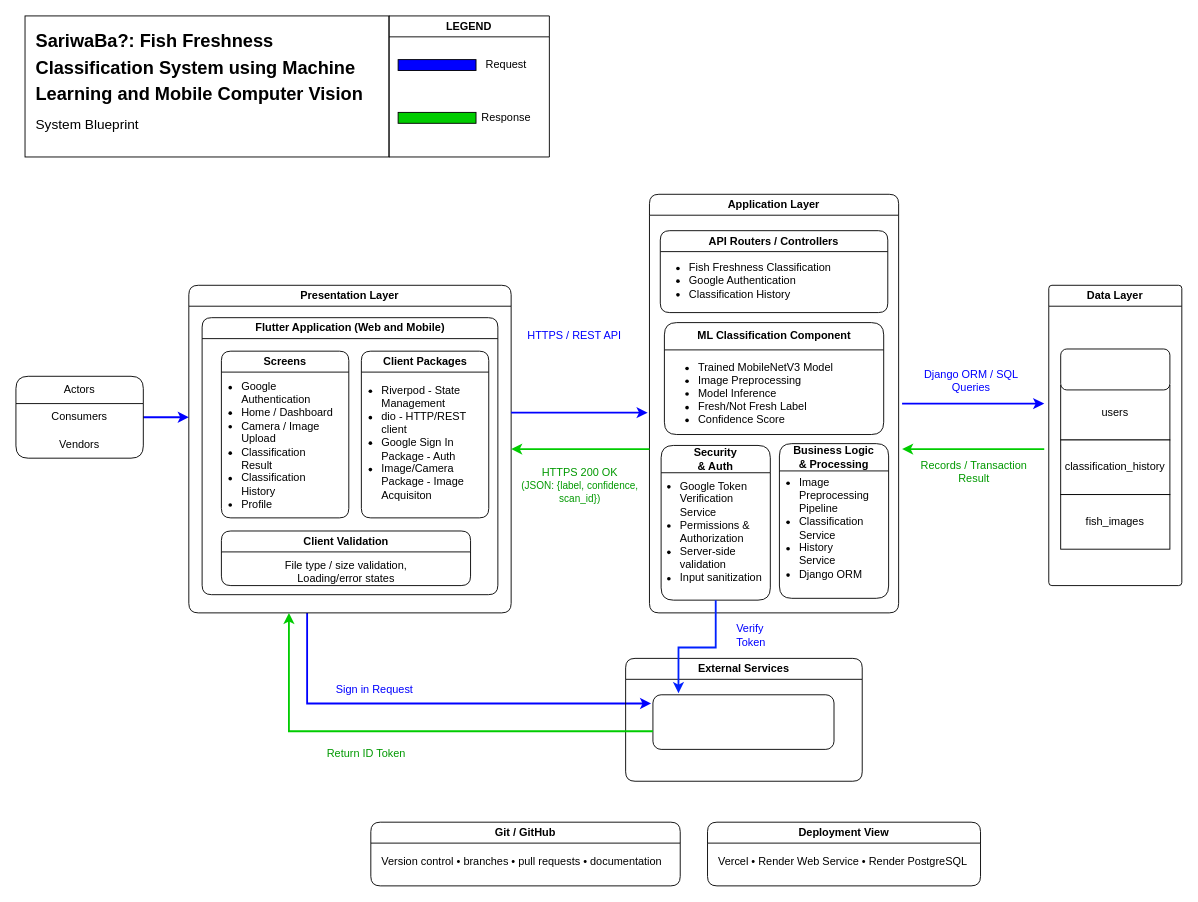
Some shapes in this 1198 by 902 pixel diagram are drawn without their labels. Here are the shapes that lost their labels. From the top down, the centre of each, then its label:
the point at 1115,369: PostgreSQL Database
the point at 743,721: Google OAuth
